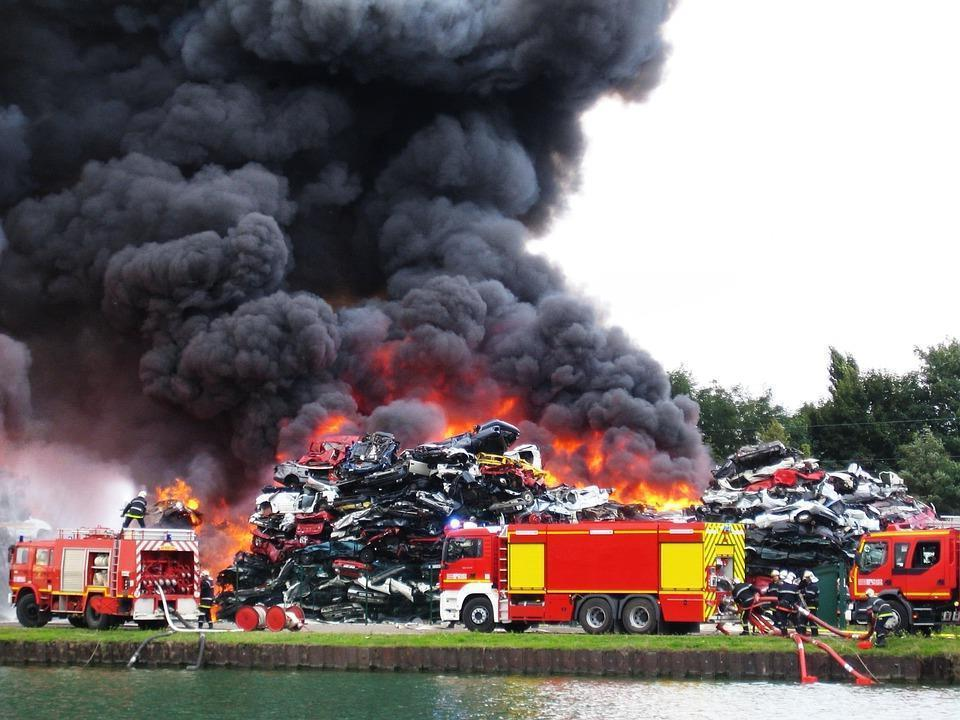Fire: (533, 427, 714, 518), (156, 471, 256, 593), (419, 381, 521, 455), (267, 411, 361, 476)
